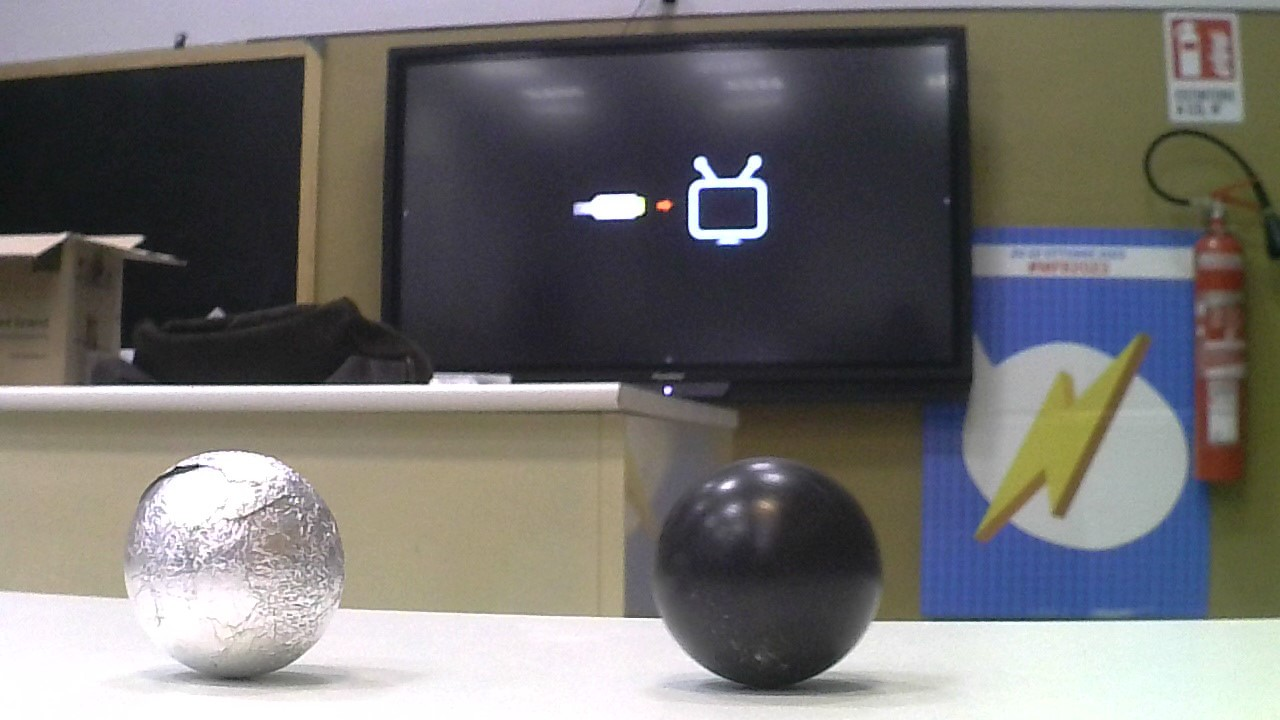black_ball: (652, 454, 888, 692)
silver_ball: (122, 446, 348, 682)
